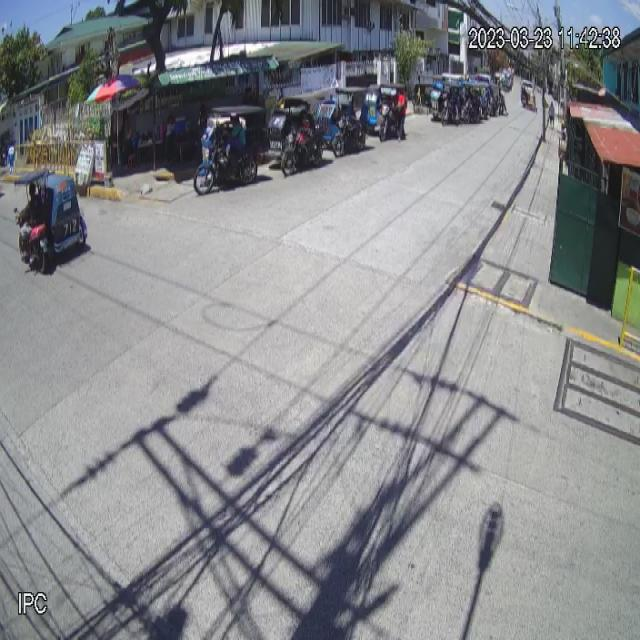Tricycle: (12, 168, 88, 274)
